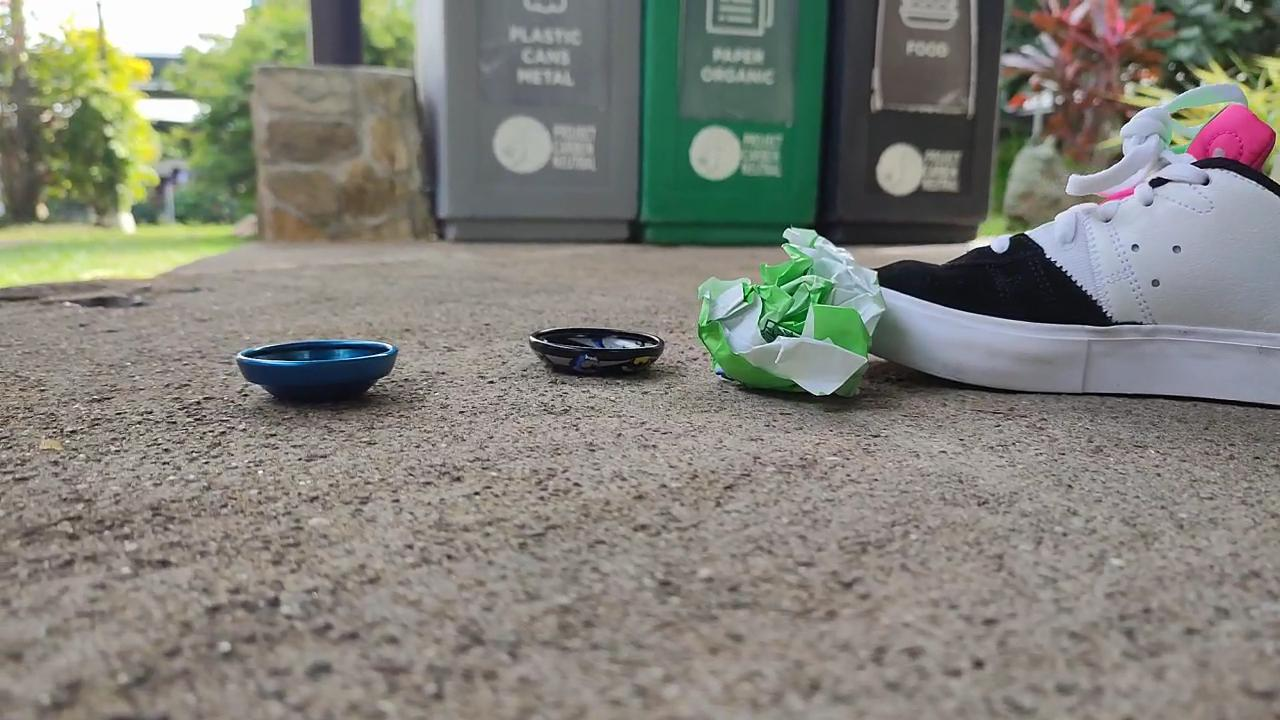Paper: (689, 200, 890, 408)
